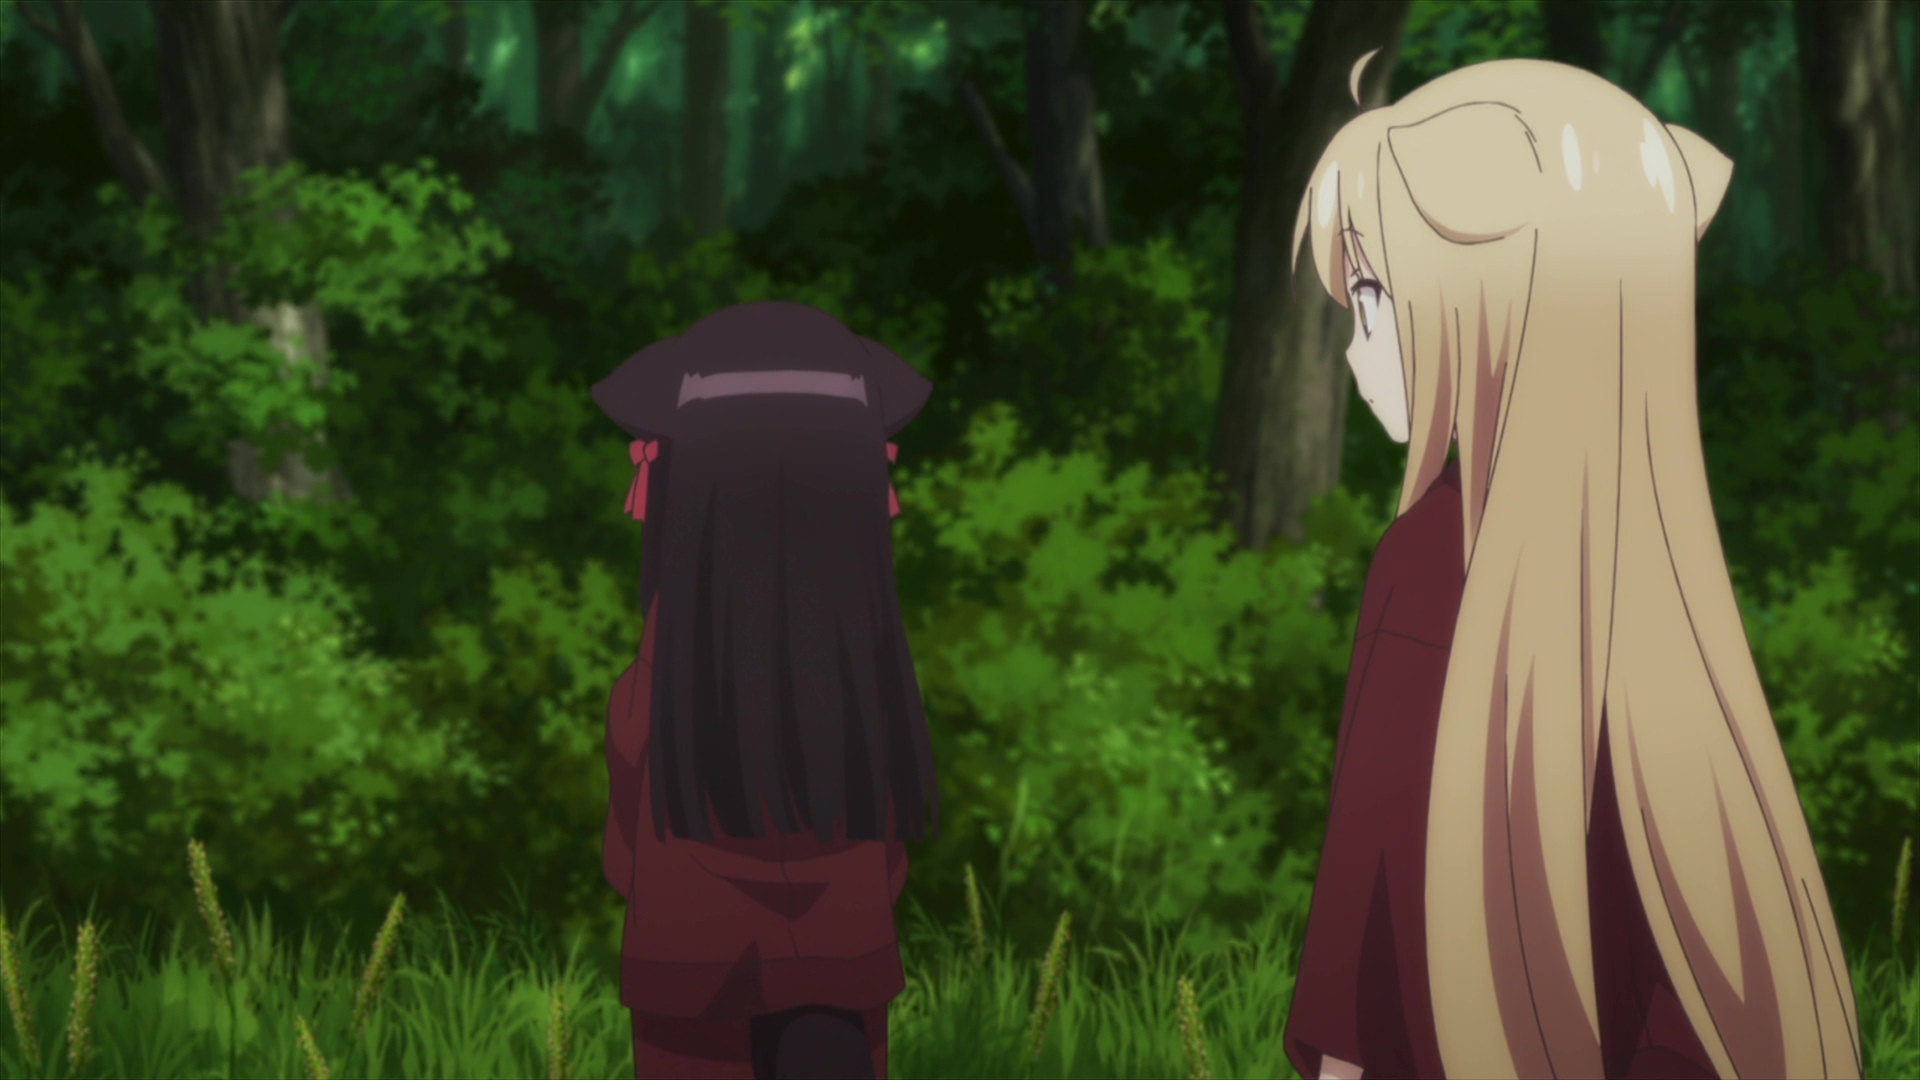柚: (1284, 46, 1863, 1080)
樱: (585, 302, 934, 1080)
